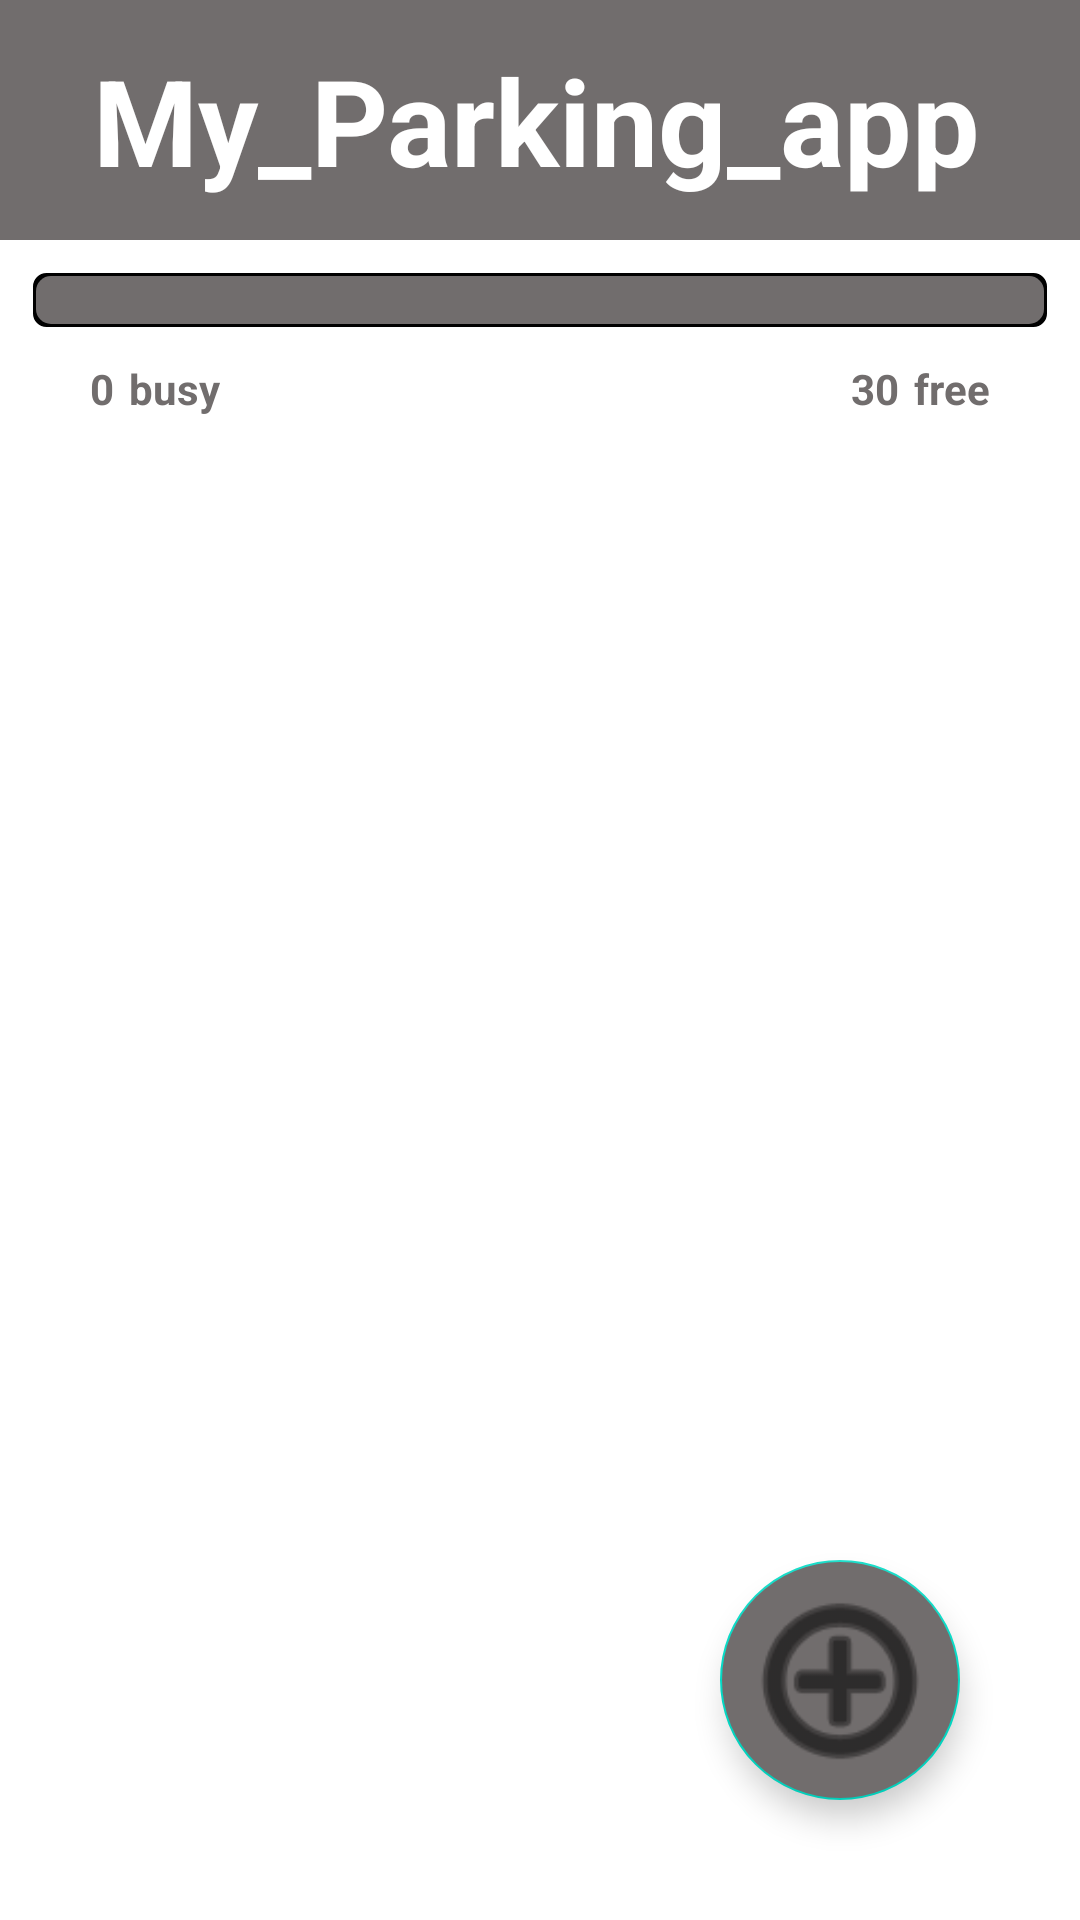

Screen size 1080px×1920px. Icon name, then its center in pixels as [x,y]:
Floating Action Button: [840,1680]
